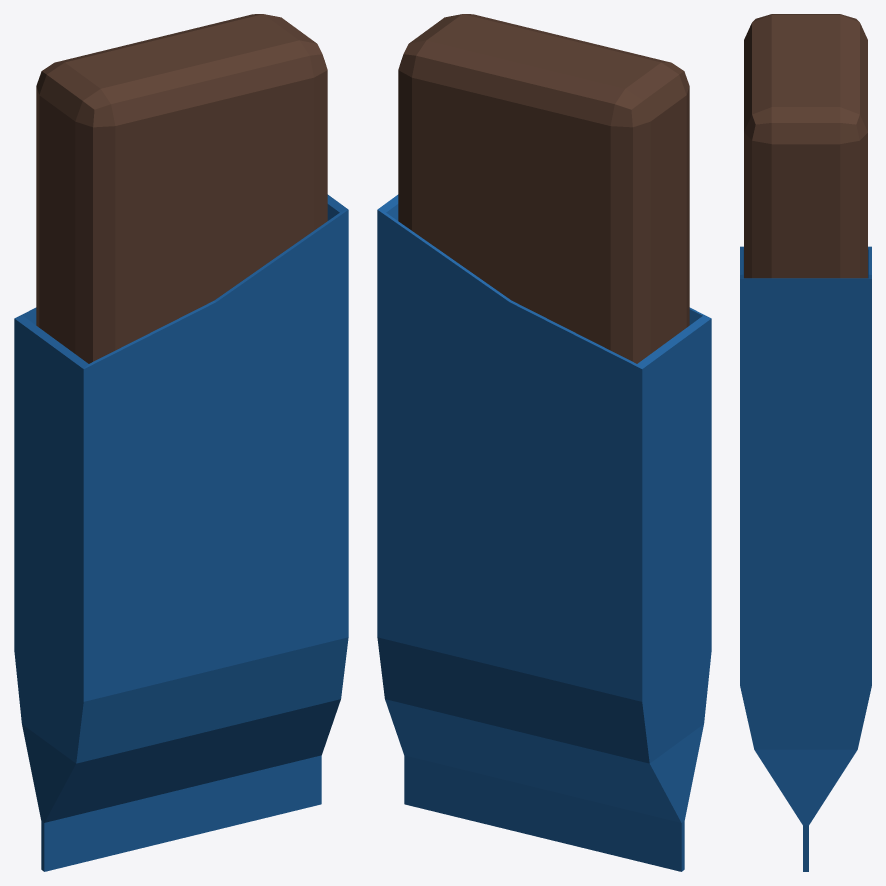
The model's file is Chocolate_A.glb.
3 renders of one model, left to right at view 1: azimuth 30°, elevation 25°; view 2: azimuth 150°, elevation 25°; view 3: azimuth 270°, elevation 25°, orthographic. The views are drawn at different scales.
Parts seen in each view (by area): view 1: Chocolate_A; view 2: Chocolate_A; view 3: Chocolate_A.
Part boxes in pixels (bbox=[...]): Chocolate_A: bbox=[14, 14, 348, 871]; Chocolate_A: bbox=[377, 14, 711, 871]; Chocolate_A: bbox=[740, 14, 871, 871].
Size of the model in its own units: 0.0315 by 0.0853 by 0.0137.
1 material, 1 textured.
